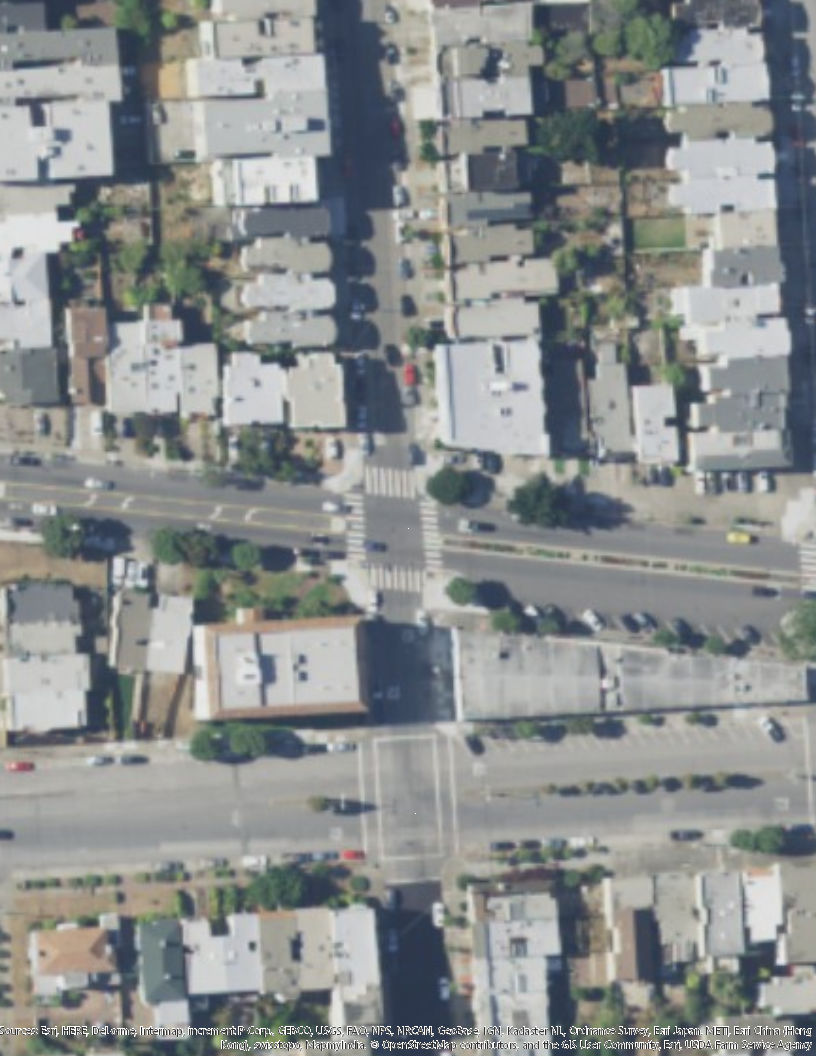zebracross: (361, 463, 419, 503), (417, 501, 445, 572), (343, 493, 369, 567), (370, 565, 422, 596), (799, 540, 816, 582)
